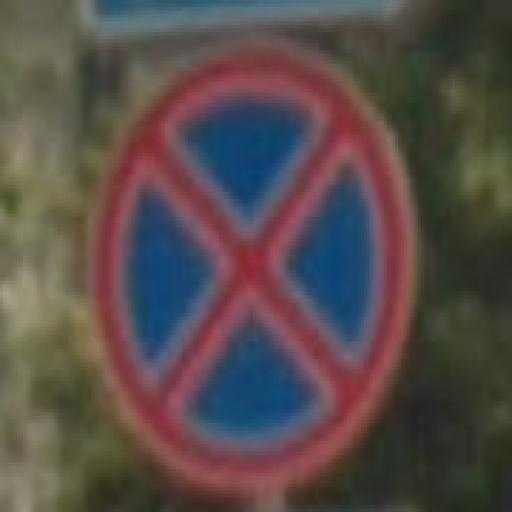traffic_sign: (86, 37, 422, 495)
